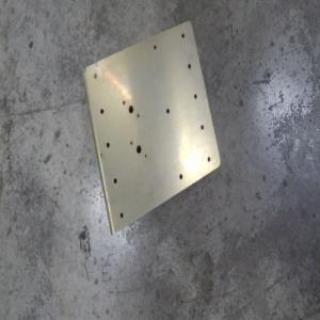MetalSheettrack_idkeyframe: (79, 16, 220, 238)
